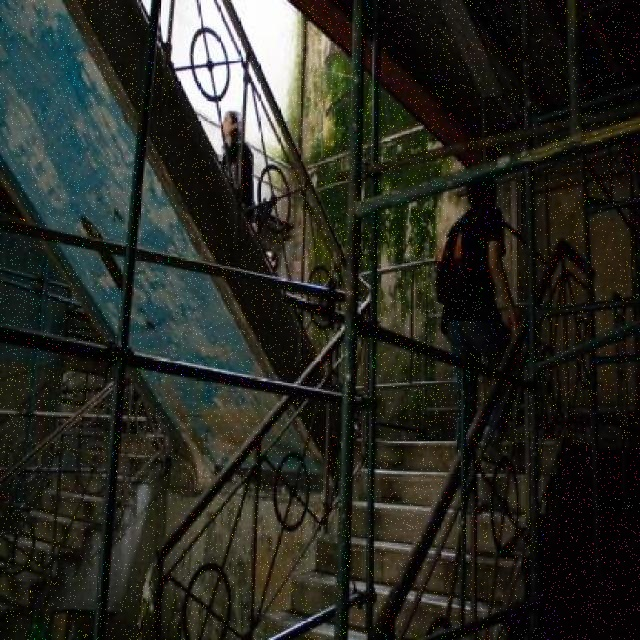stair: (265, 437, 566, 640), (0, 437, 168, 615)
